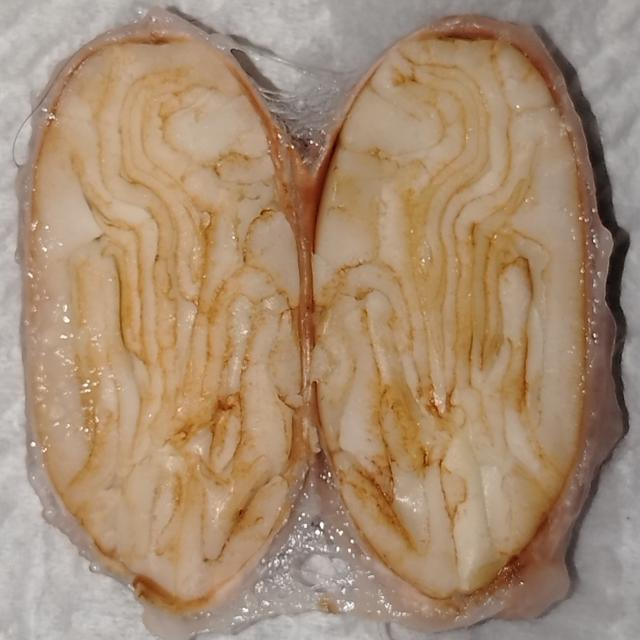Criollo: (300, 45, 594, 612), (23, 23, 298, 601)
